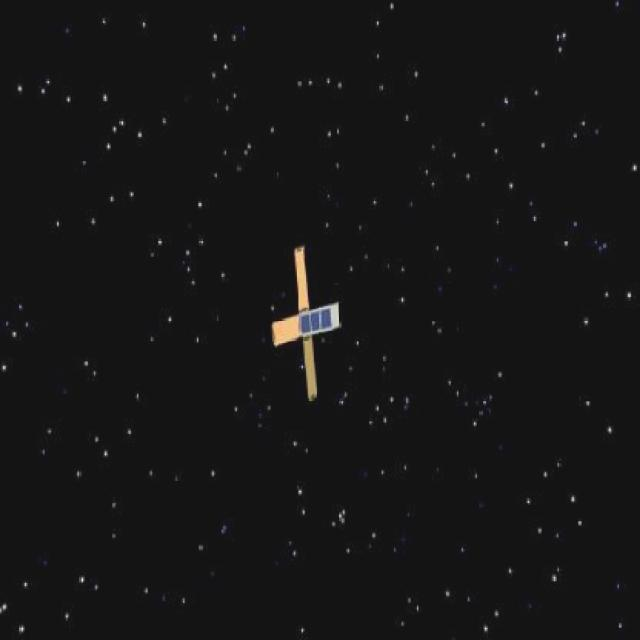satellite: (252, 246, 356, 404)
